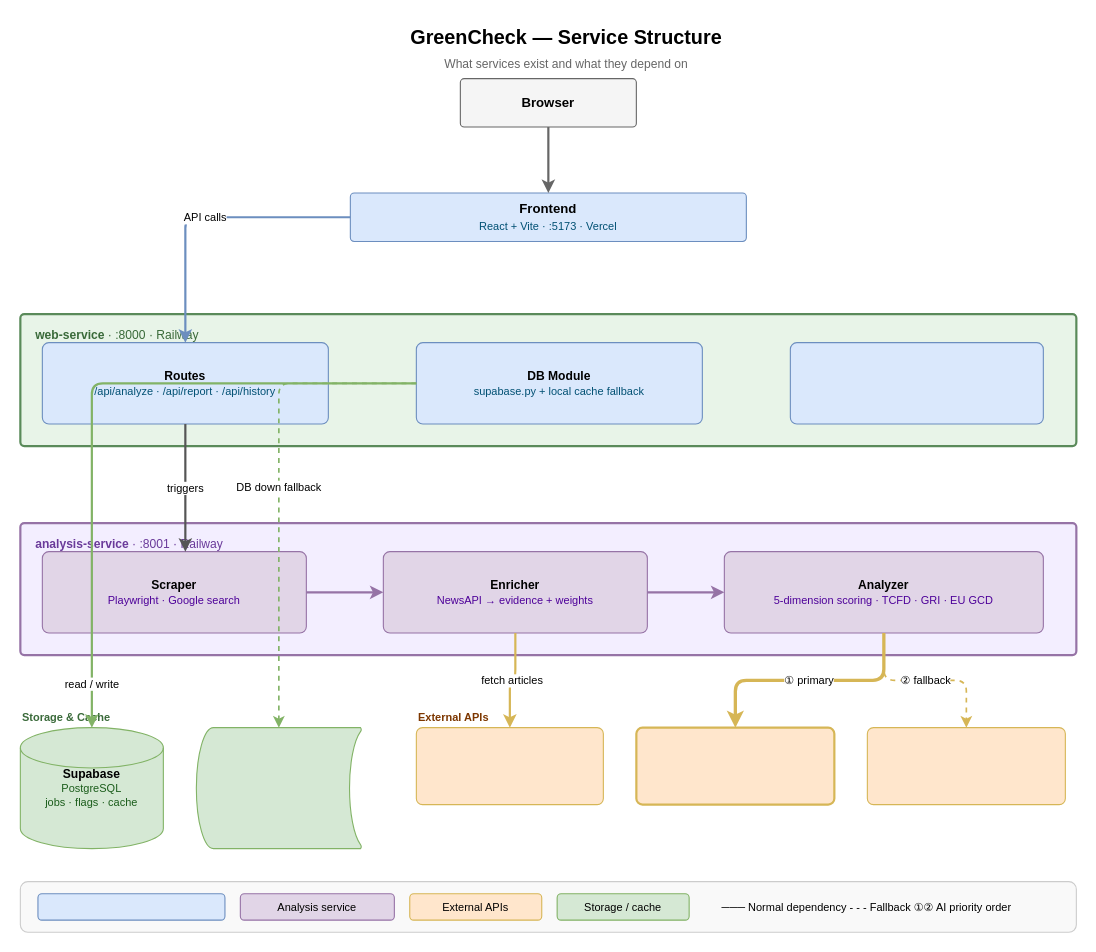
Image size: 1096x952. Some labels were removed from this diagram. The centre of each missing label's shape, as x and y in pixels:
Frontend / web-service: (131,906)
Local Cache local_cache.json Shell · H&M · Tesla Patagonia · BP: (278,788)
NewsAPI ESG news articles: (509,766)
PDF Generator WeasyPrint: (916,383)
① GenAI API 1 Primary AI: (735,765)
② GenAI API 2 Fallback AI: (965,766)
